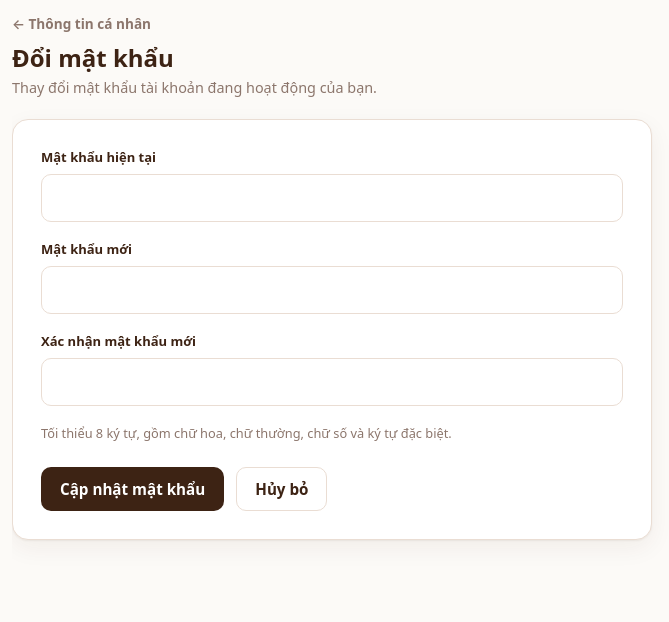
Test: ChangePassword (08 · Đổi mật khẩu) › chặn gửi khi xác nhận mật khẩu không khớp
This screenshot has width=669, height=622.
Type "Old@1234" into the password field labelled "Mật khẩu hiện tại" at coordinates (332, 198), box [41, 174, 623, 222]
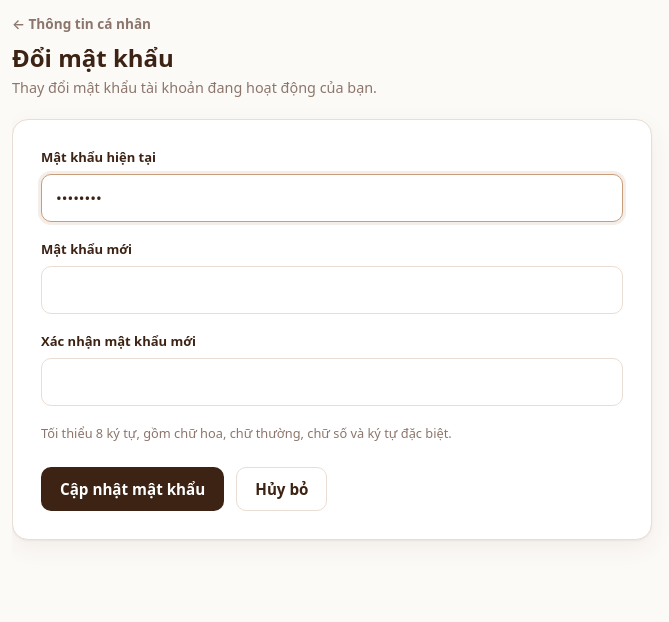
Type "New@1234" into the password field labelled "Mật khẩu mới" at coordinates (332, 290), box [41, 266, 623, 314]
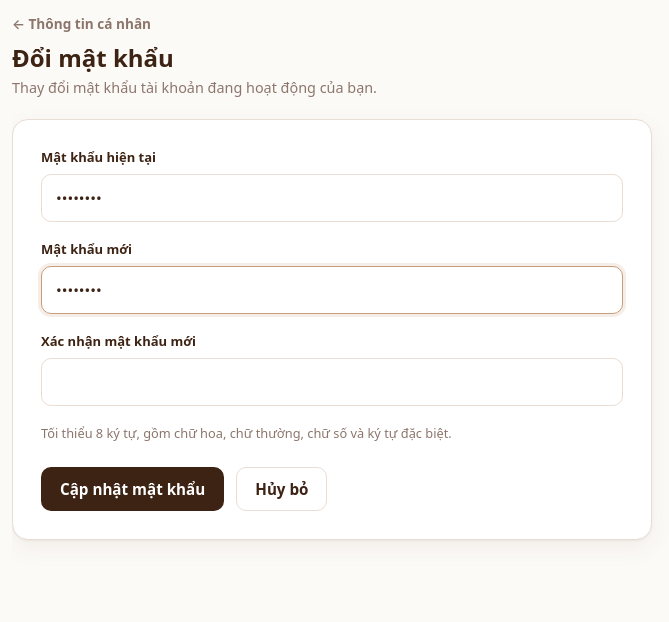
Type "Khac@1234" into the password field labelled "Xác nhận mật khẩu mới" at coordinates (332, 382), box [41, 358, 623, 406]
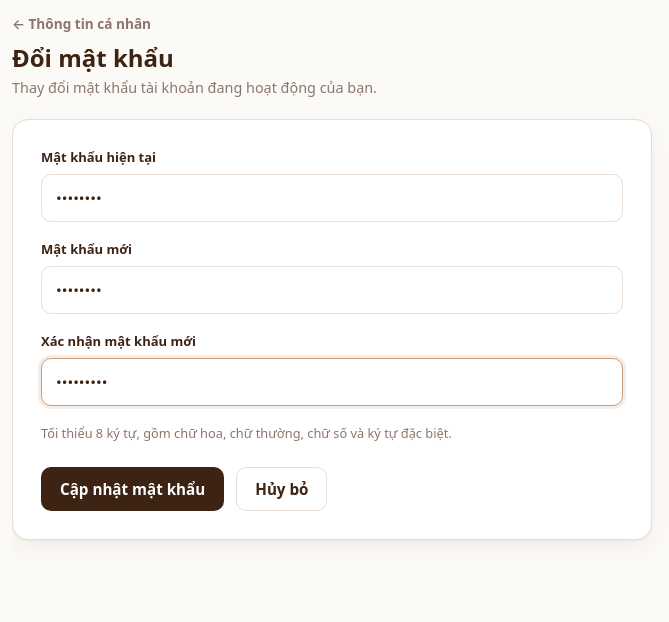
Click the button "Cập nhật mật khẩu" at coordinates (133, 488), box [41, 466, 224, 510]
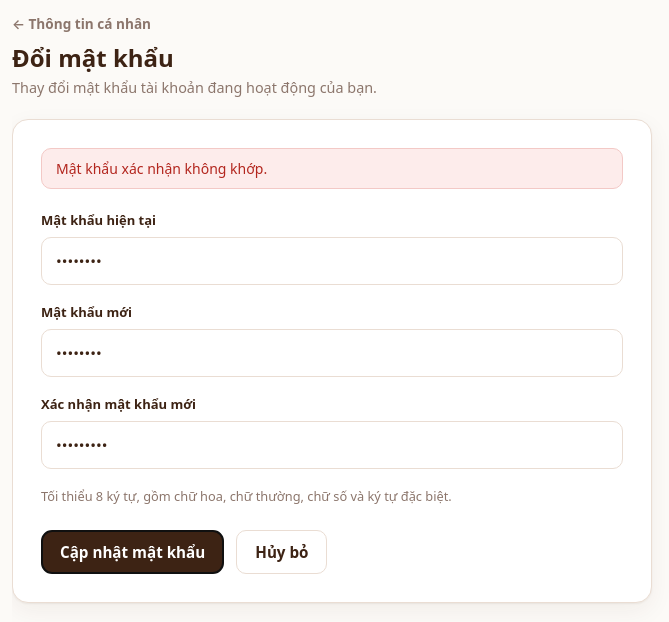
Check: the text "Mật khẩu xác nhận không khớp." is shown, box [41, 148, 623, 189]
